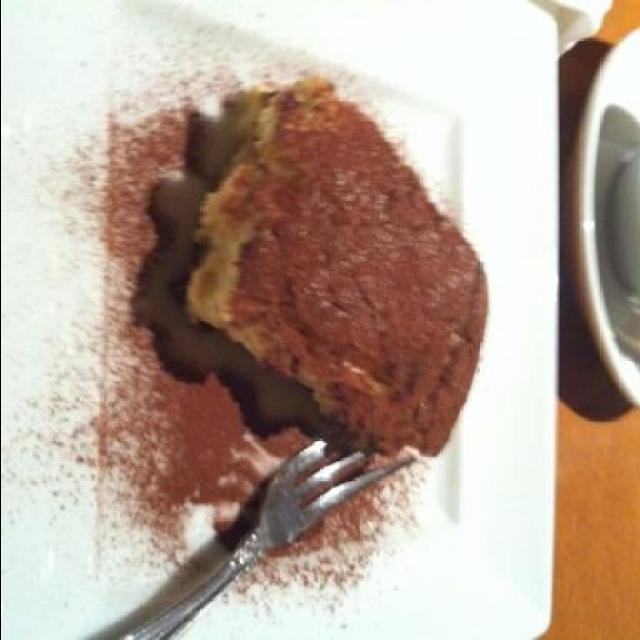Tiramisu: (172, 49, 502, 449)
